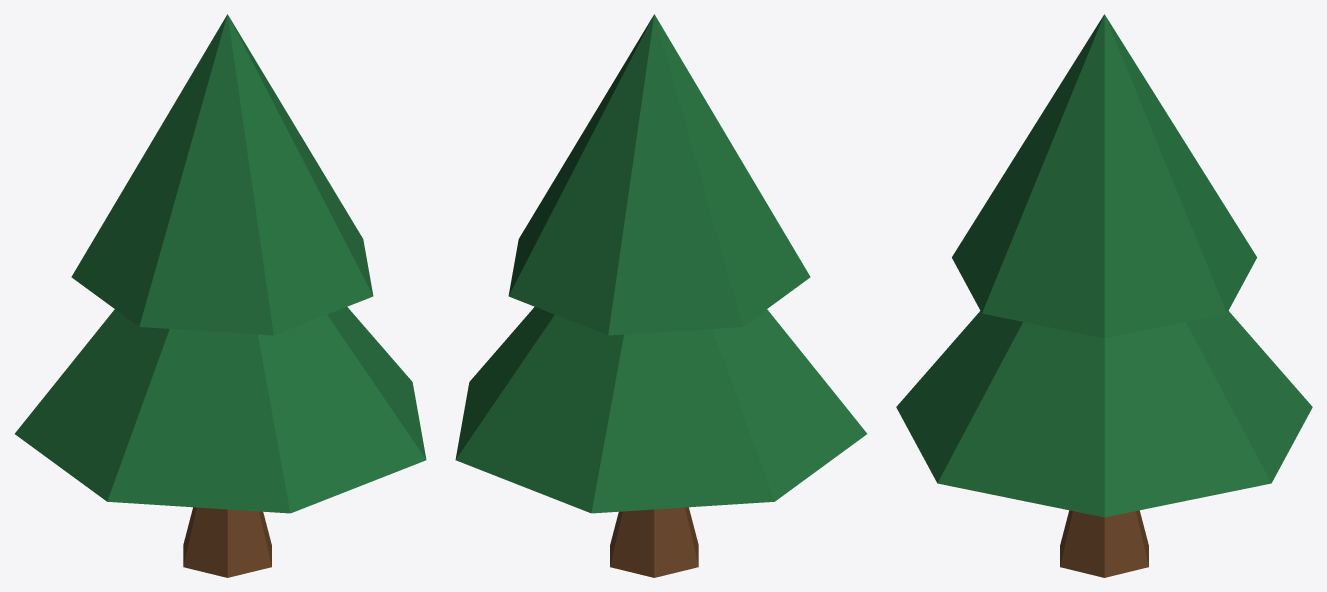
Rendered from pine.gltf.
3 renders of one model, left to right at view 1: azimuth 30°, elevation 25°; view 2: azimuth 150°, elevation 25°; view 3: azimuth 270°, elevation 25°, orthographic.
Bounding box in the file's own units: 1.43 × 2.1 × 1.46.
